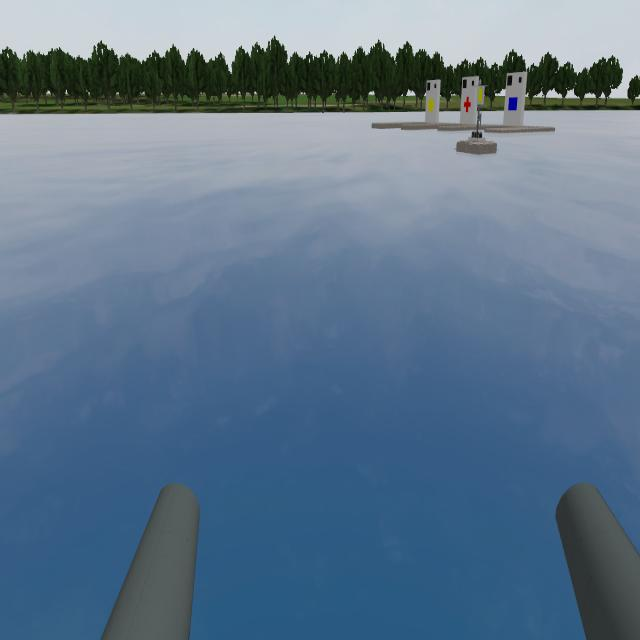yellow_pole: (472, 82, 491, 111)
